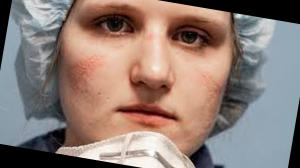mask_weared_incorrect: (64, 1, 236, 168)
